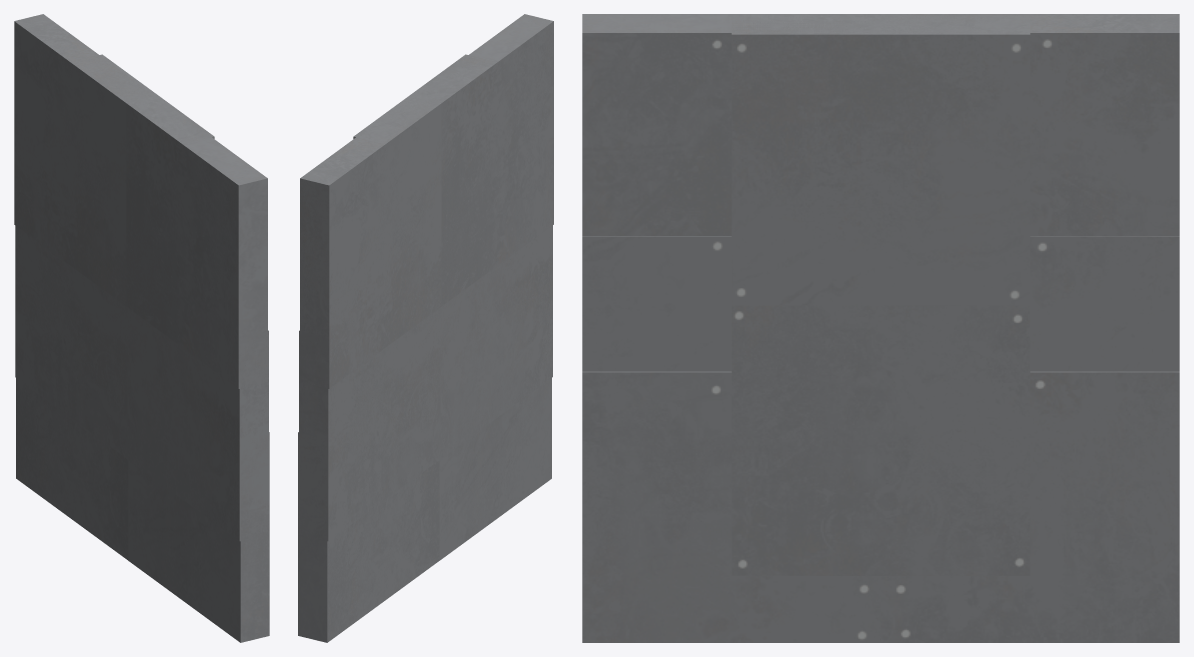
File: Wall.fbx
3 renders of one model, left to right at view 1: azimuth 30°, elevation 25°; view 2: azimuth 150°, elevation 25°; view 3: azimuth 270°, elevation 25°, orthographic. The views are drawn at different scales.
Parts seen in each view (by area): view 1: Plane.007; view 2: Plane.007; view 3: Plane.007.
Boxes of the visible parts, x1=… form: Plane.007: x1=14, y1=14, x2=269, y2=642; Plane.007: x1=298, y1=14, x2=553, y2=642; Plane.007: x1=582, y1=14, x2=1179, y2=642.
Size of the model in its own units: 32.9 by 450 by 400.
